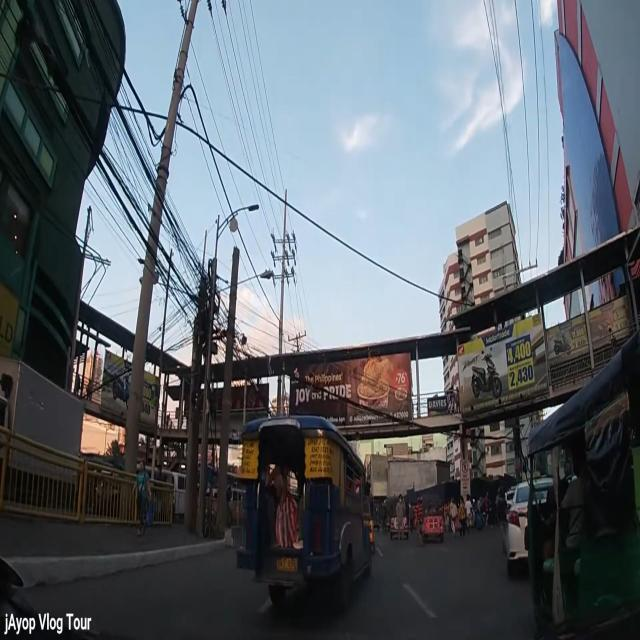car: (504, 476, 567, 577)
jeepney: (235, 414, 368, 613)
tricycle: (526, 339, 640, 640), (415, 495, 443, 542)
truck: (0, 357, 87, 520)
